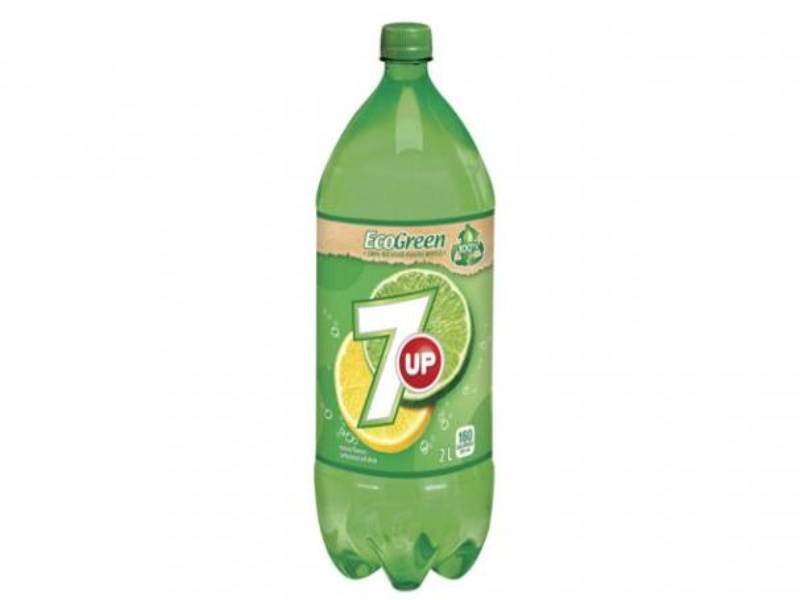Plastic bottle: (255, 21, 531, 586)
